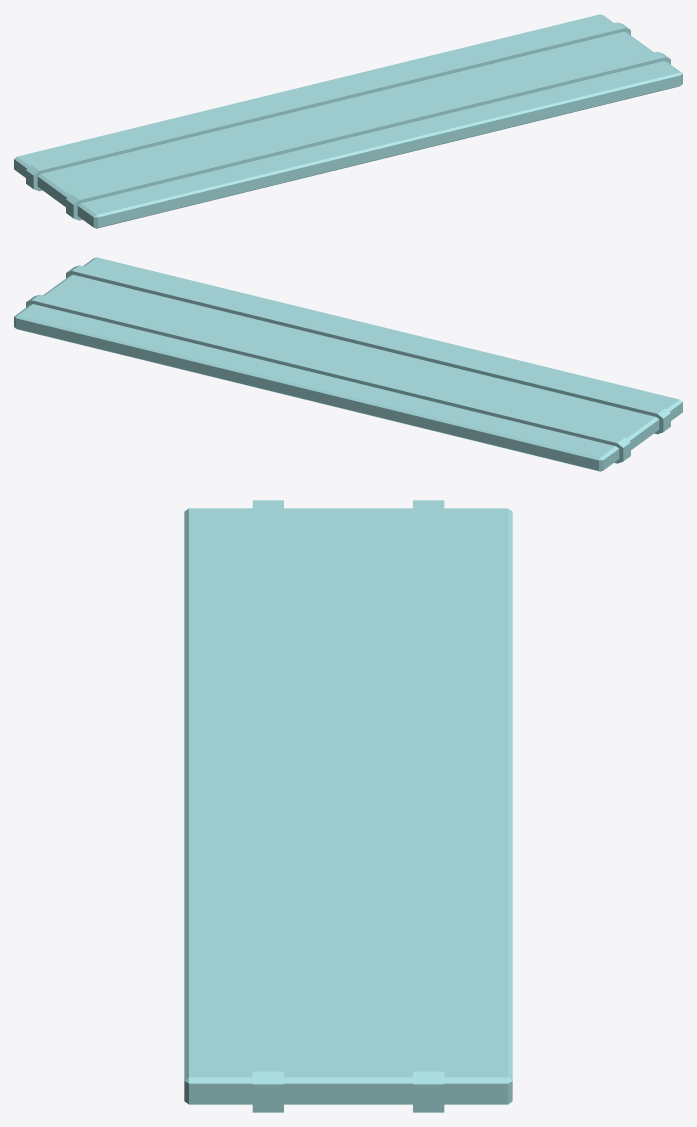
The model's file is TabuaPuzzle.fbx.
3 renders of one model, top to bottom at view 1: azimuth 30°, elevation 25°; view 2: azimuth 150°, elevation 25°; view 3: azimuth 270°, elevation 25°, orthographic. The views are drawn at different scales.
Parts seen in each view (by area): view 1: TelaPCA.008; view 2: TelaPCA.008; view 3: TelaPCA.008.
Boxes of the visible parts, x1,y1,x2,y2 form: TelaPCA.008: (14, 14, 682, 228); TelaPCA.008: (14, 257, 682, 471); TelaPCA.008: (184, 500, 512, 1112).
Bounding box in the file's own units: 146 × 4.79 × 34.8.
